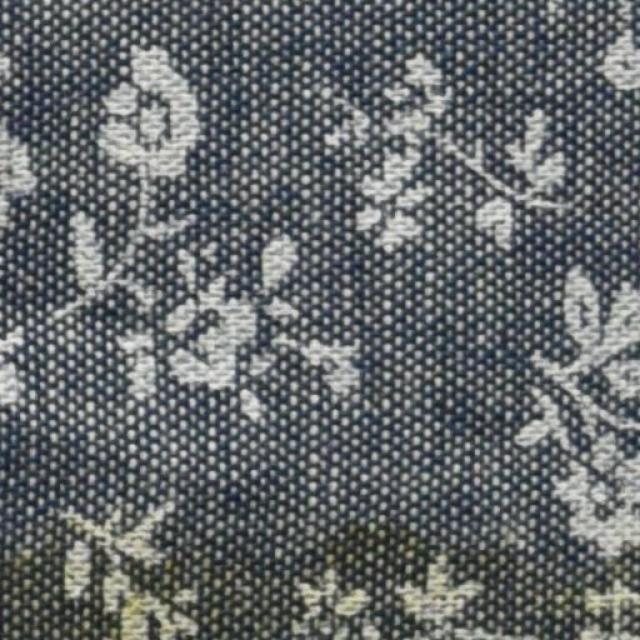Stain: (4, 513, 639, 639)
